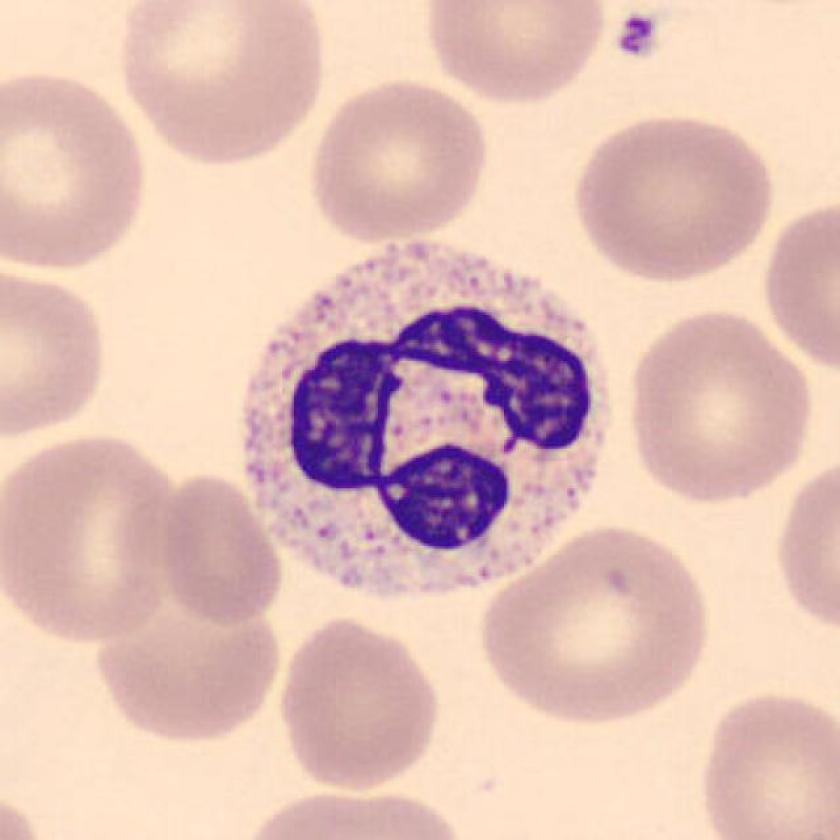neutrophil: (240, 242, 607, 593)
